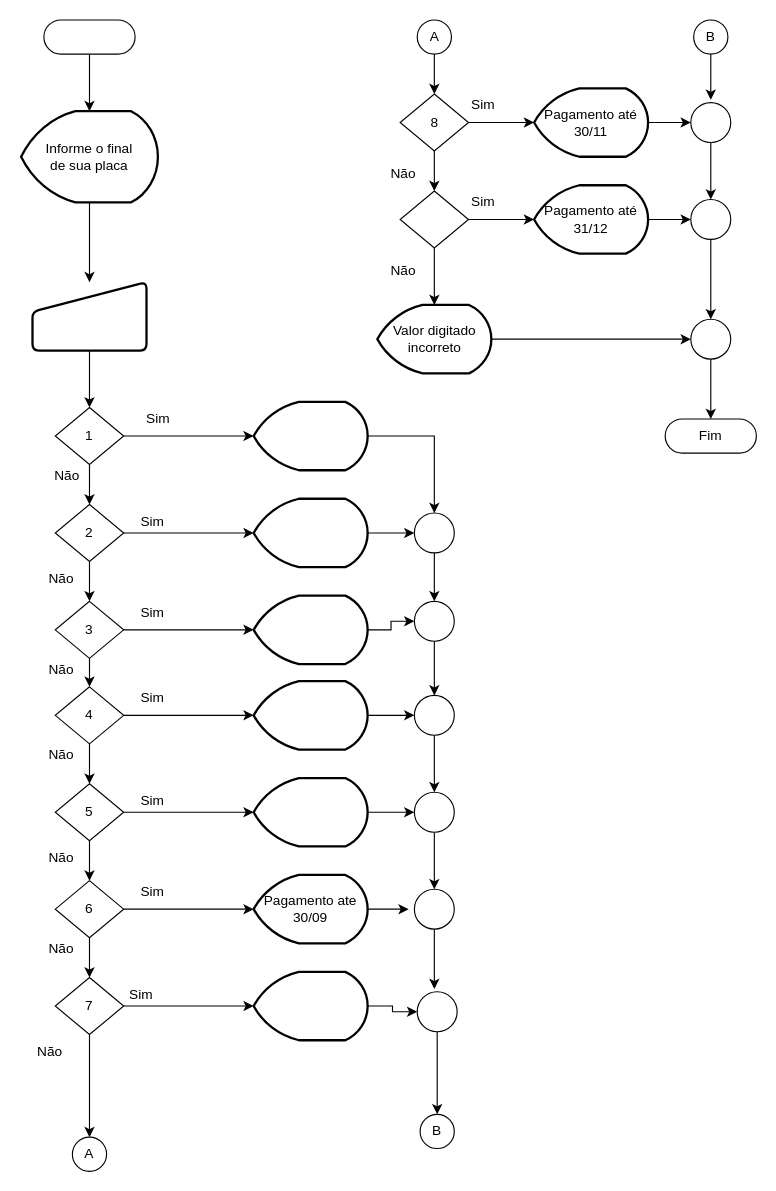
Some shapes in this 776 by 1191 pixel diagram are drawn without their labels. Each missing label, with the box of its shape:
9 ou 0: (399, 190, 469, 248)
finalPlaca: (31, 280, 147, 351)
Inicio: (43, 19, 135, 54)
Pagamento ate 30/06: (252, 594, 368, 665)
Pagamento até 30/04: (252, 400, 368, 471)
Pagamento até 31/05: (252, 497, 368, 568)
Pagamento até 31/07: (252, 679, 368, 750)
Pagamento até 31/08: (252, 776, 368, 847)
Pagamento até 31/10: (252, 970, 368, 1041)
